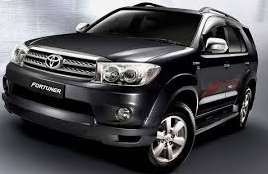car: (1, 1, 259, 172)
